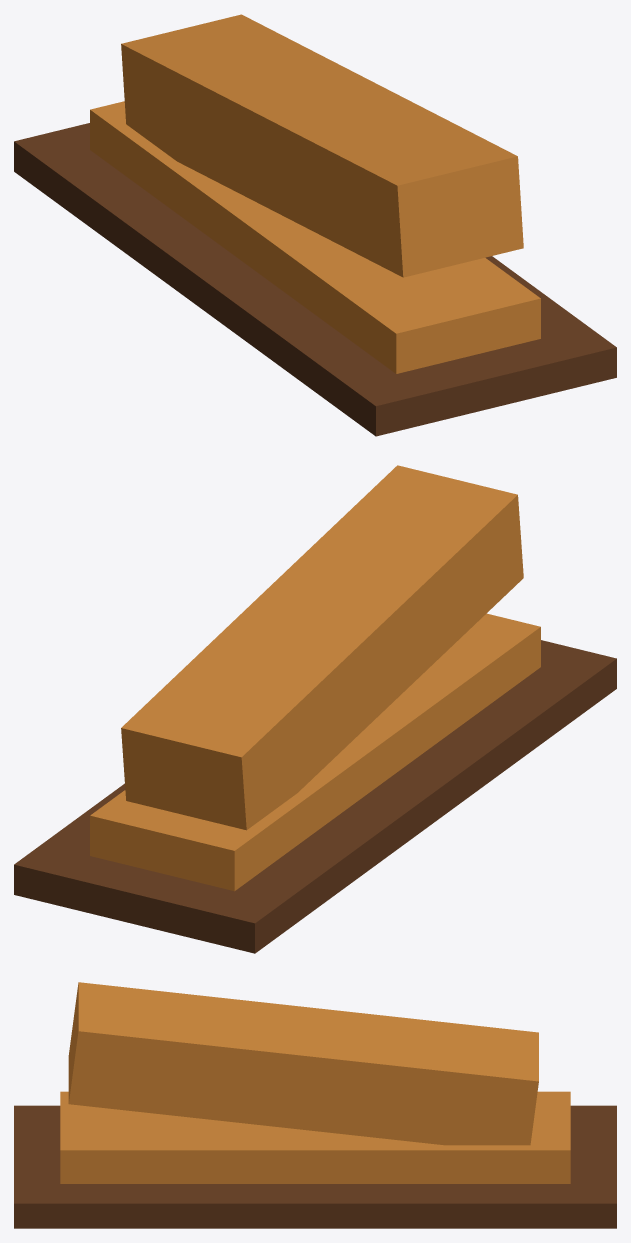
The model's file is founder_stapler.glb.
3 views of the same model, one above another, from view 1: azimuth 30°, elevation 25°; view 2: azimuth 150°, elevation 25°; view 3: azimuth 270°, elevation 25° (orthographic). The views are drawn at different scales.
Visible parts, largest first — view 1: arm_bronze, base_wood_plaque, base_bronze; view 2: arm_bronze, base_wood_plaque, base_bronze; view 3: arm_bronze, base_wood_plaque, base_bronze.
Part boxes in pixels (x1,y1,x2,y2): arm_bronze: [121, 14, 523, 277]; base_wood_plaque: [14, 123, 616, 436]; base_bronze: [90, 101, 540, 373]; arm_bronze: [121, 465, 523, 830]; base_wood_plaque: [14, 640, 616, 953]; base_bronze: [90, 613, 540, 891]; arm_bronze: [68, 982, 538, 1145]; base_wood_plaque: [14, 1105, 616, 1228]; base_bronze: [60, 1091, 570, 1183].
Size of the model in its own units: 0.1 by 0.0823 by 0.26.
